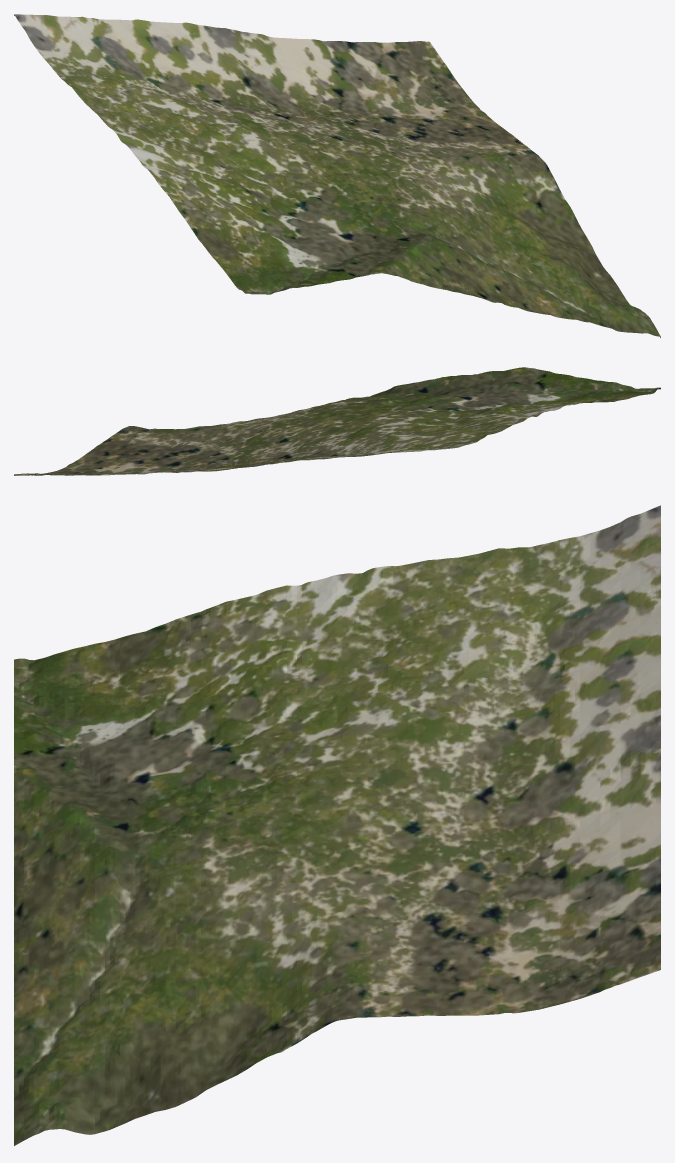
3 renders of one model, top to bottom at view 1: azimuth 30°, elevation 25°; view 2: azimuth 150°, elevation 25°; view 3: azimuth 270°, elevation 25°, orthographic. The views are drawn at different scales.
Bounding box in the file's own units: 250 × 148 × 241.
1 material, 1 textured.
